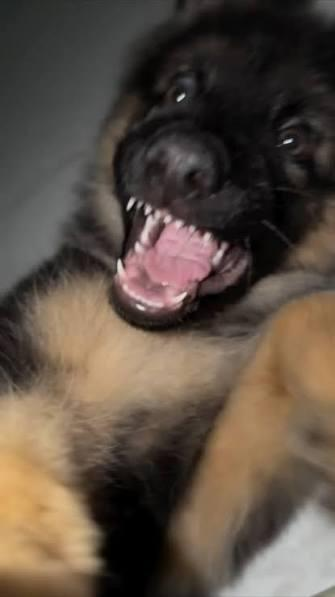puppy-dog: (0, 1, 335, 597)
